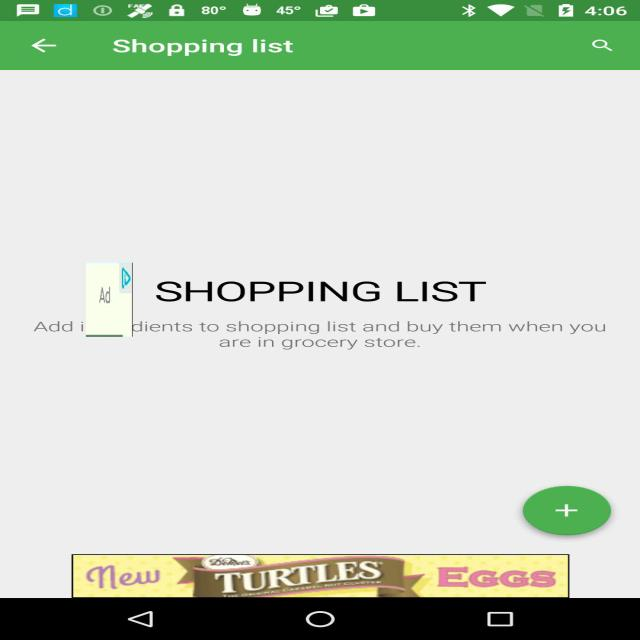sneaking: (86, 262, 133, 336)
